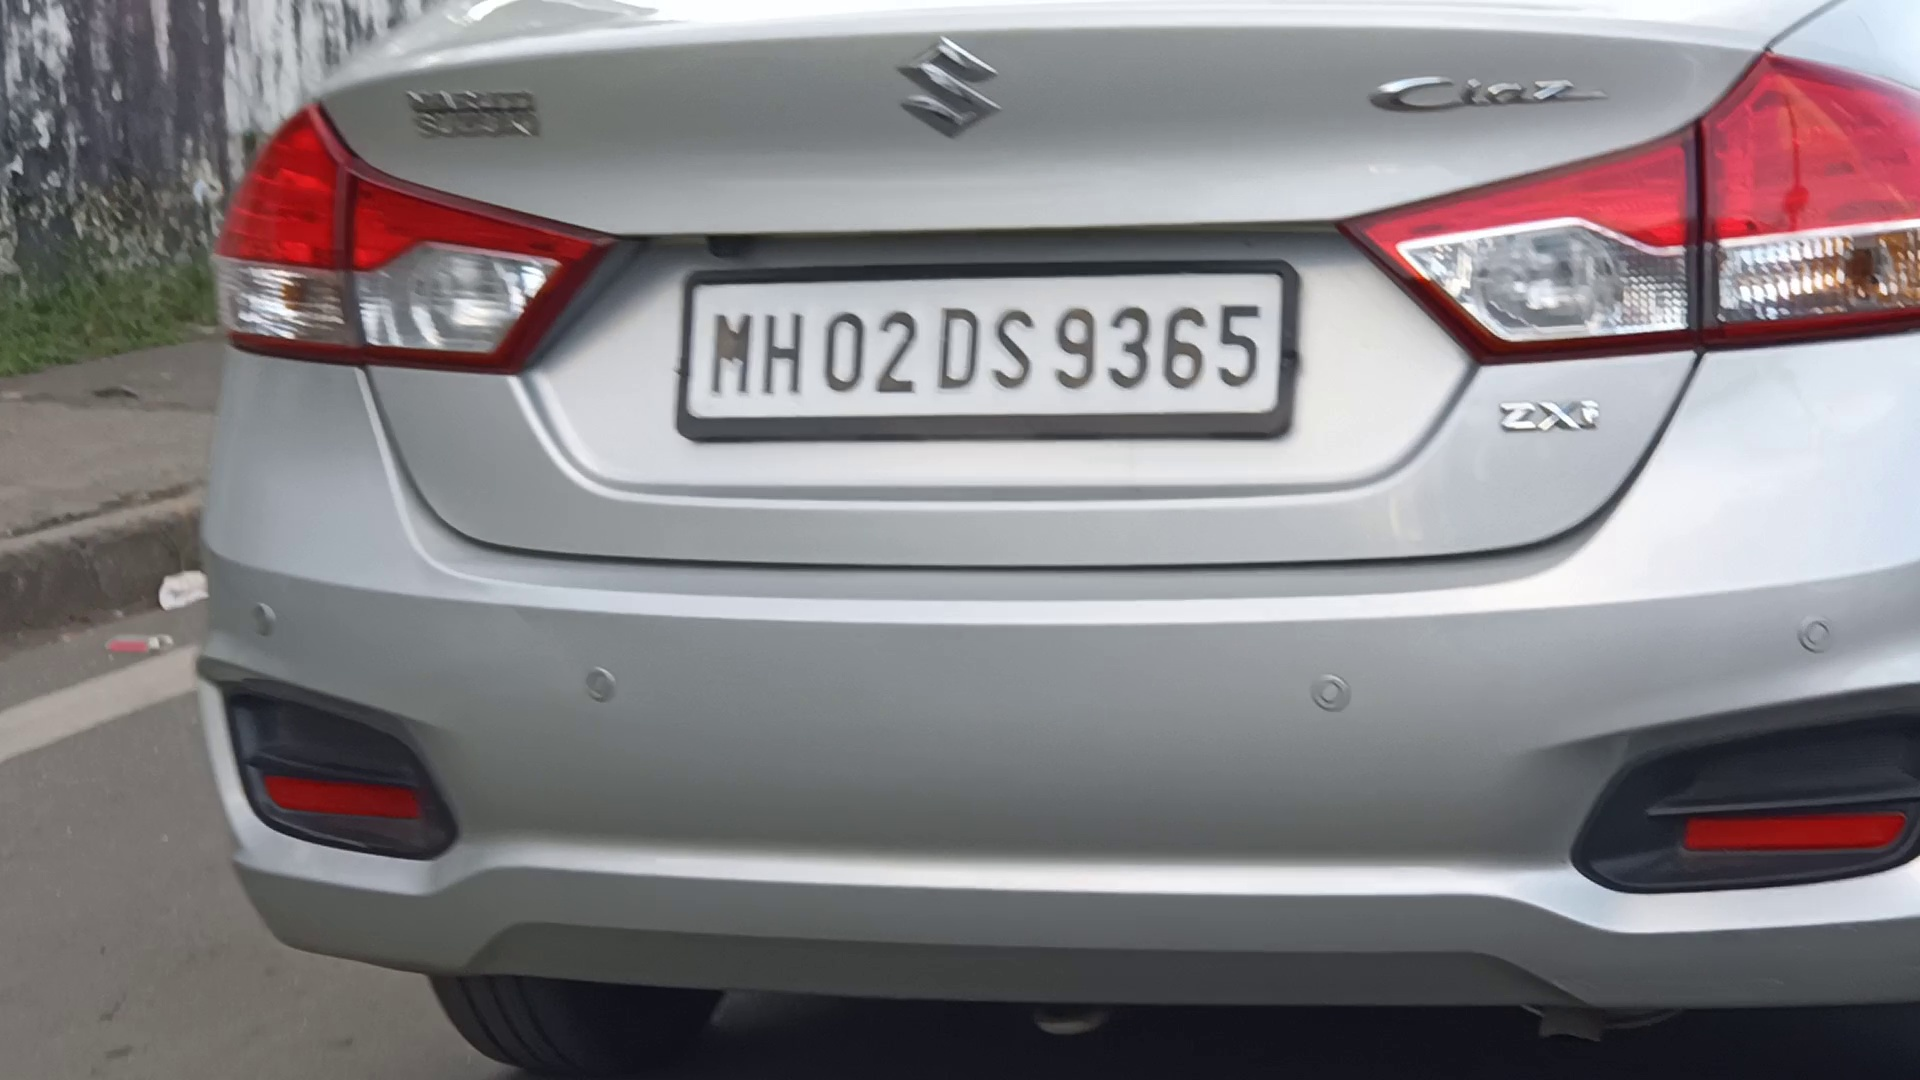MH02DS9365: (688, 278, 1283, 414)
